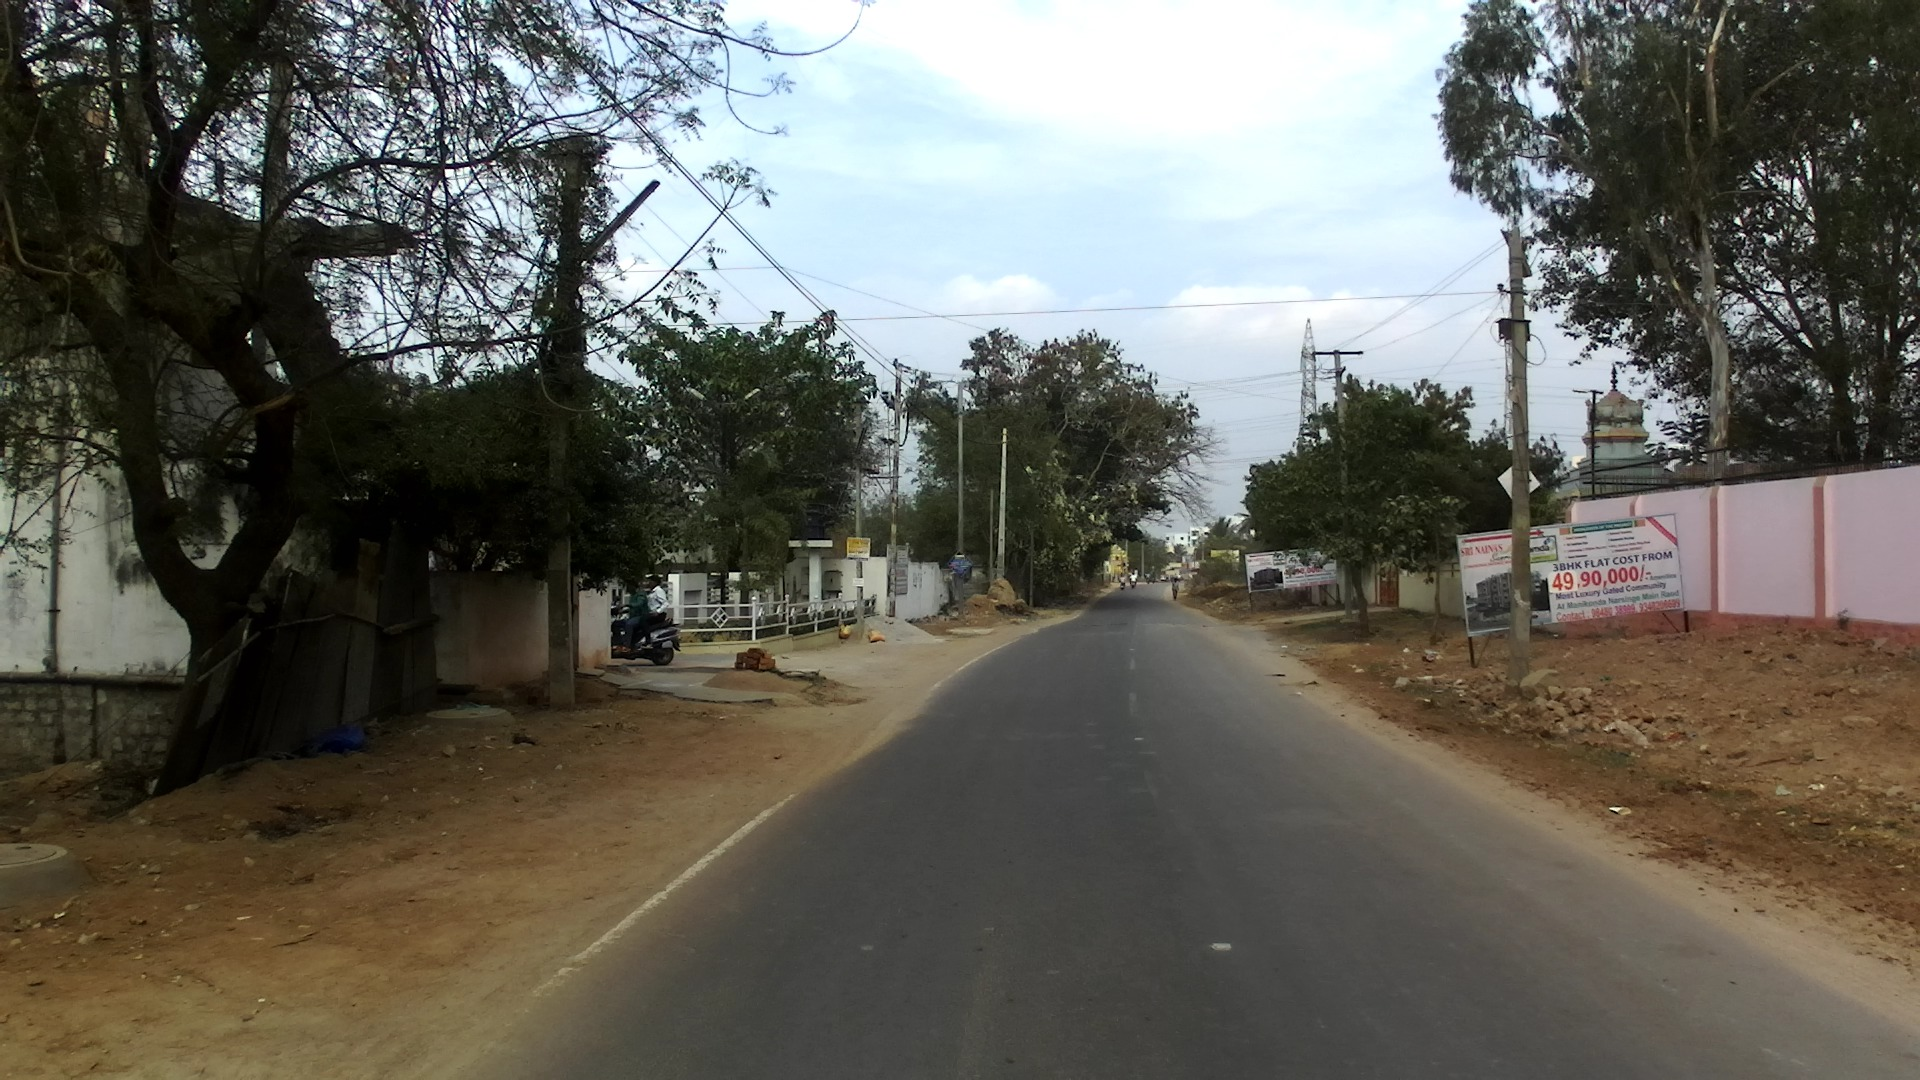car: (1160, 574, 1167, 582)
motorcycle: (607, 602, 686, 665), (1129, 579, 1139, 588), (1119, 579, 1126, 589), (1150, 578, 1156, 582), (1146, 578, 1149, 583)
person: (1170, 575, 1181, 599), (1177, 572, 1182, 582), (1173, 573, 1177, 580)
rider: (619, 578, 649, 662), (642, 572, 670, 653), (1130, 572, 1136, 585), (1120, 575, 1126, 584), (1150, 569, 1156, 578), (1145, 572, 1151, 579)
